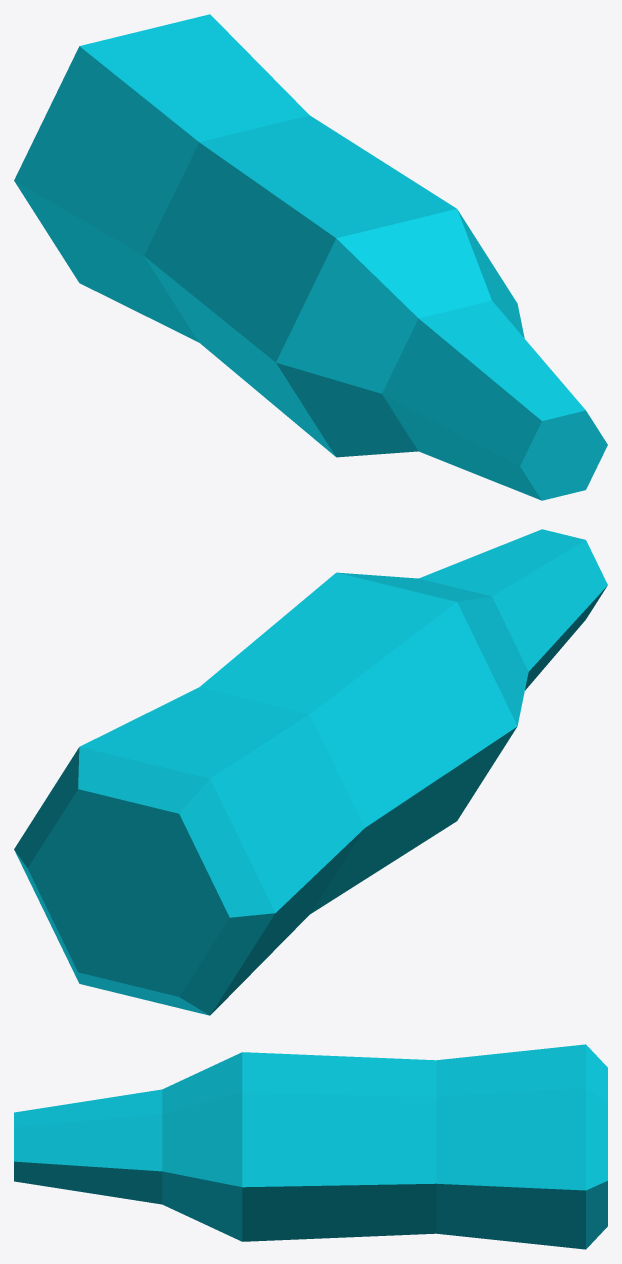
File: WaterBottleCollider.obj
The picture shows the model from 3 angles, top to bottom: view 1: azimuth 30°, elevation 25°; view 2: azimuth 150°, elevation 25°; view 3: azimuth 270°, elevation 25°; orthographic projection. The views are drawn at different scales.
Visible parts, largest first — view 1: sodaBottle.003, sodaBottle.001, sodaBottle.002; view 2: sodaBottle.001, sodaBottle.003, sodaBottle.002; view 3: sodaBottle.003, sodaBottle.001, sodaBottle.002.
Boxes of the visible parts, <box> form: sodaBottle.003: <box>144,115,524,457</box>; sodaBottle.001: <box>14,14,309,342</box>; sodaBottle.002: <box>382,300,607,500</box>; sodaBottle.001: <box>14,687,364,1015</box>; sodaBottle.003: <box>199,572,528,914</box>; sodaBottle.002: <box>419,529,607,690</box>; sodaBottle.003: <box>162,1052,436,1241</box>; sodaBottle.001: <box>436,1044,607,1249</box>; sodaBottle.002: <box>14,1089,162,1204</box>.
Size of the model in its own units: 0.0902 by 0.0782 by 0.2602.
